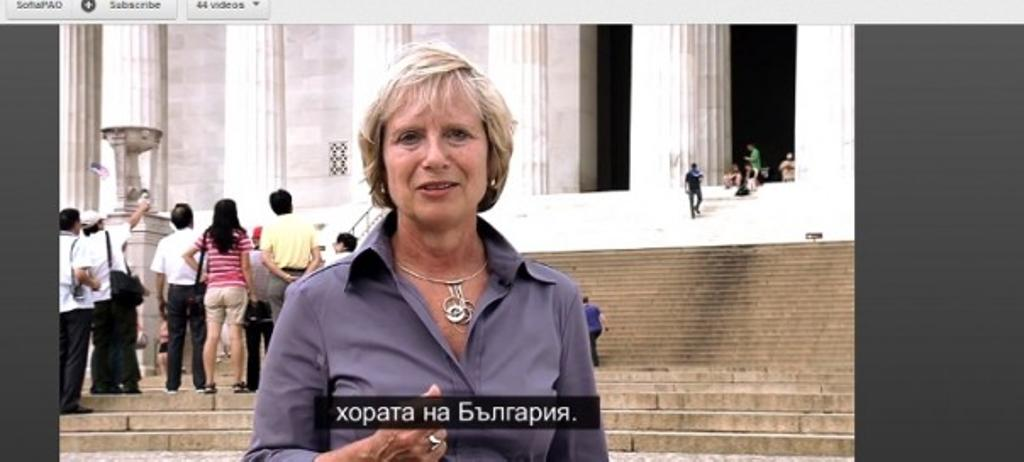face: (384, 90, 484, 226)
